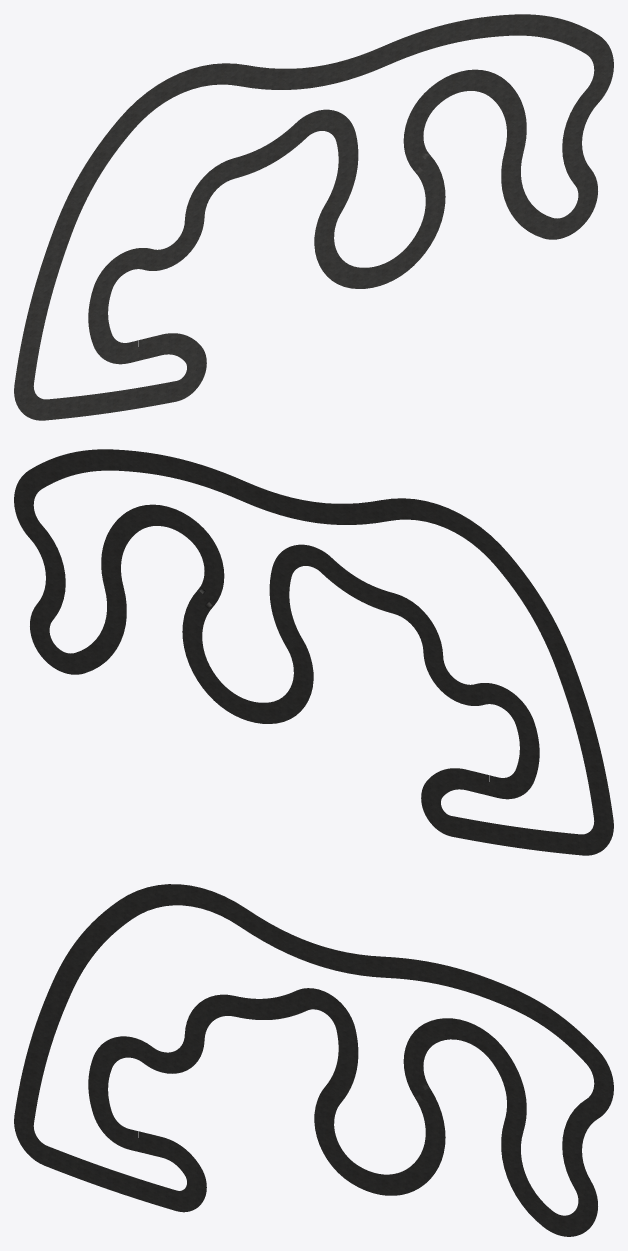
Rendered from track11_road.obj.
3 renders of one model, top to bottom at view 1: azimuth 30°, elevation 25°; view 2: azimuth 150°, elevation 25°; view 3: azimuth 330°, elevation 25°, orthographic.
Parts seen in each view (by area): view 1: road_0_curve_; view 2: road_0_curve_; view 3: road_0_curve_.
Boxes of the visible parts, left/top/right/bottom form: road_0_curve_: left=14, top=14, right=613, bottom=420; road_0_curve_: left=14, top=449, right=613, bottom=855; road_0_curve_: left=14, top=884, right=613, bottom=1236.
Size of the model in its own units: 49.6 by 26.02 by 0.
1 material, 1 textured.
